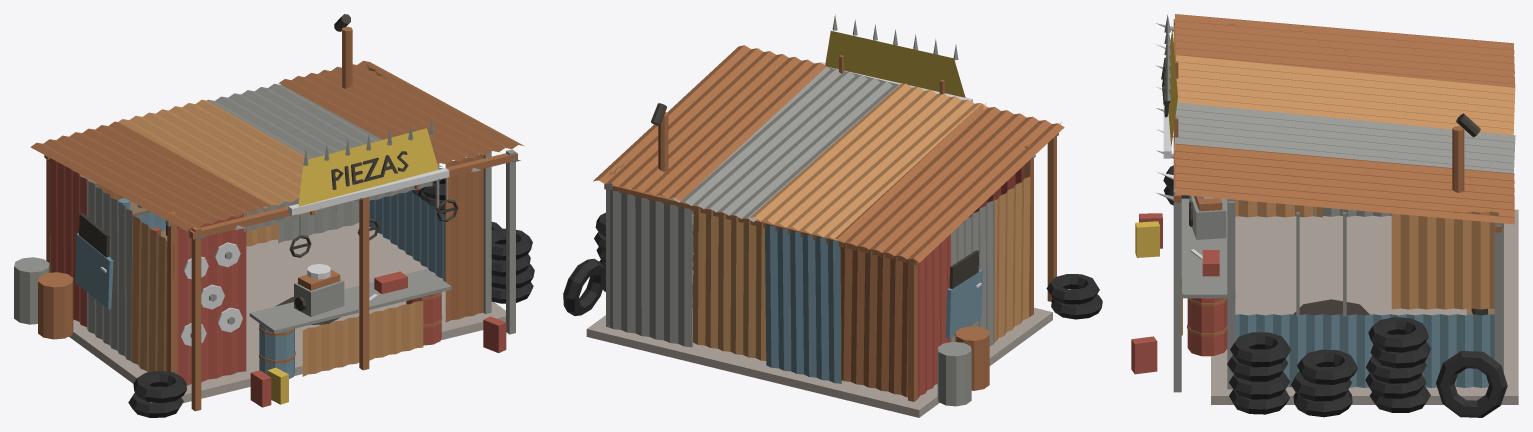
3 views of the same model, side by side, from view 1: azimuth 30°, elevation 25°; view 2: azimuth 150°, elevation 25°; view 3: azimuth 270°, elevation 25° (orthographic). The views are drawn at different scales.
Visible parts, largest first — view 1: TiendaPiezas_Unity; view 2: TiendaPiezas_Unity; view 3: TiendaPiezas_Unity.
Boxes of the visible parts, x1,y1,x2,y2 form: TiendaPiezas_Unity: (14, 14, 534, 417); TiendaPiezas_Unity: (563, 14, 1102, 417); TiendaPiezas_Unity: (1131, 14, 1518, 417).
Size of the model in its own units: 8.24 by 4.45 by 5.79.
